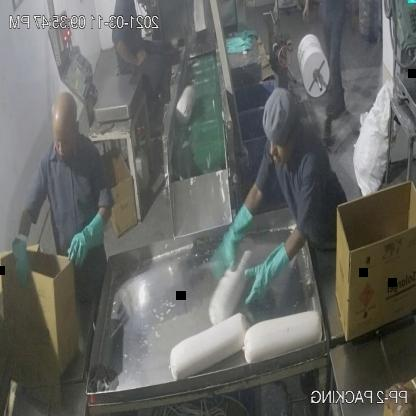glove: (237, 242, 293, 323), (212, 196, 252, 283), (67, 197, 104, 267), (12, 230, 36, 293)
no_glove: (108, 37, 157, 73)
